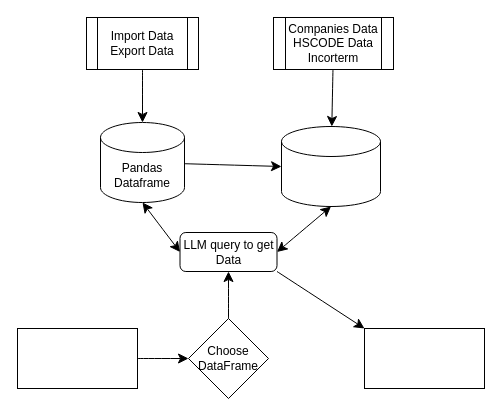
This 502x416 diagram has some shape labels left out. The shapes that lost their labels are listed below. From the top down, each one's box as (x1, y1, x2, y2) in pixels, then its label:
(280, 126, 380, 206): Vectorize Data
(16, 328, 138, 388): Prompt
(364, 328, 484, 388): Answer
